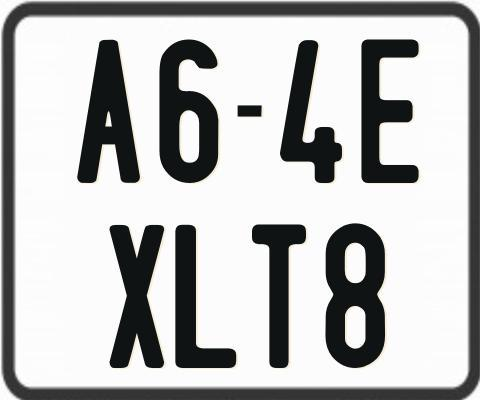4: (278, 37, 345, 181)
6: (156, 39, 219, 182)
8: (324, 223, 385, 371)
A: (77, 40, 145, 187)
E: (360, 39, 423, 183)
L: (173, 222, 240, 367)
T: (250, 225, 305, 373)
X: (109, 222, 167, 366)
